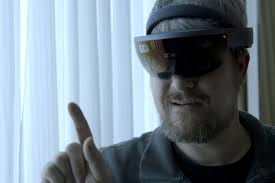hololens: (132, 27, 256, 81)
